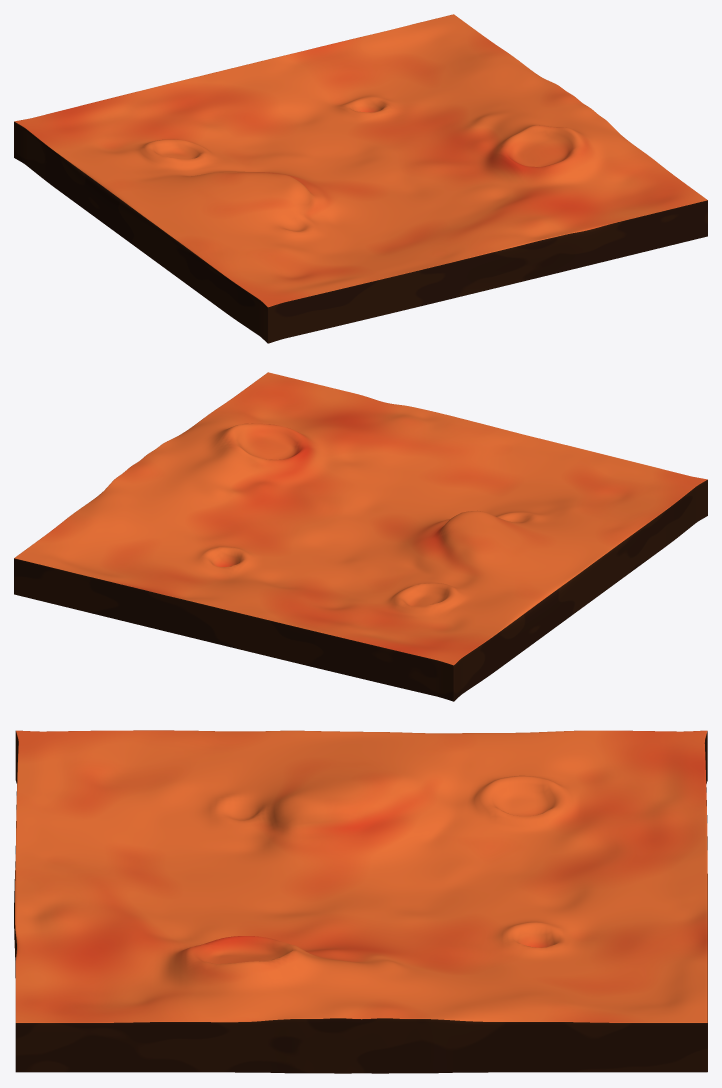
The model's file is ground.fbx.
3 renders of one model, top to bottom at view 1: azimuth 30°, elevation 25°; view 2: azimuth 150°, elevation 25°; view 3: azimuth 270°, elevation 25°, orthographic. The views are drawn at different scales.
Parts seen in each view (by area): view 1: Ground; view 2: Ground; view 3: Ground.
Part boxes in pixels (x1=…): Ground: x1=14, y1=14, x2=707, y2=343; Ground: x1=14, y1=372, x2=707, y2=701; Ground: x1=14, y1=730, x2=707, y2=1073.
Size of the model in its own units: 2406 by 292 by 2401.
